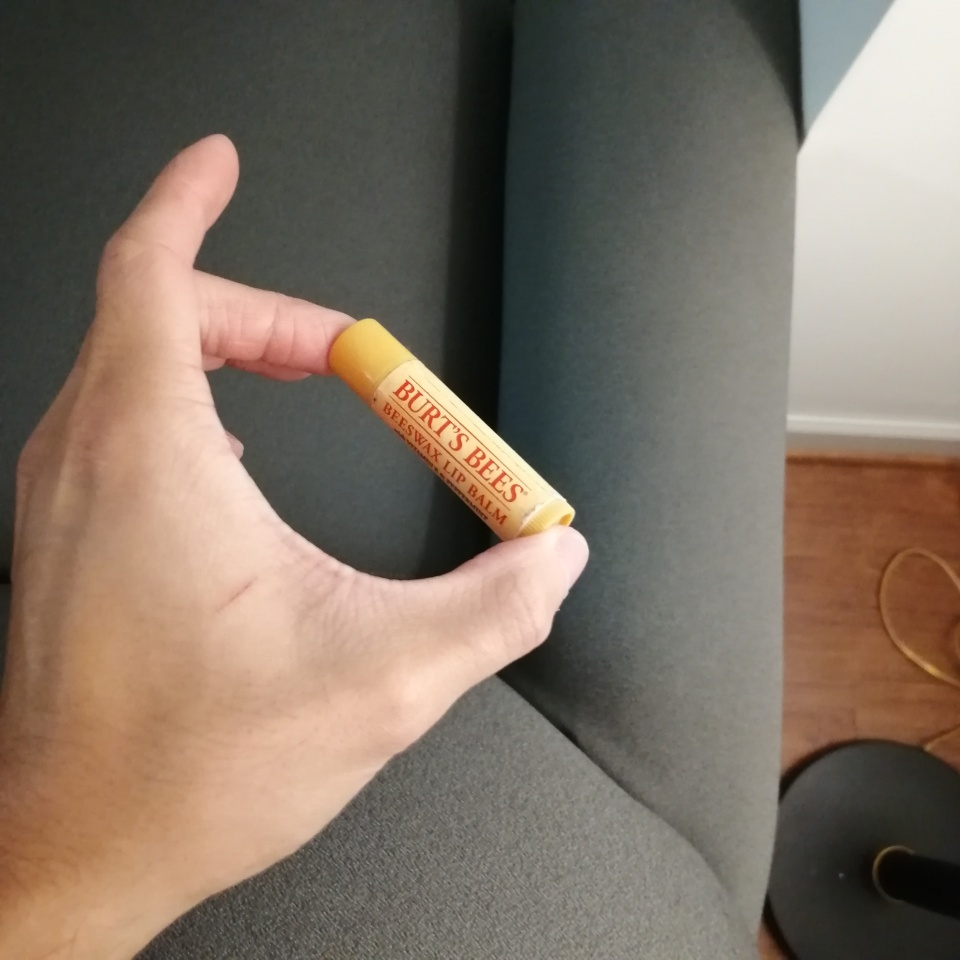chapstick: (328, 318, 577, 544)
